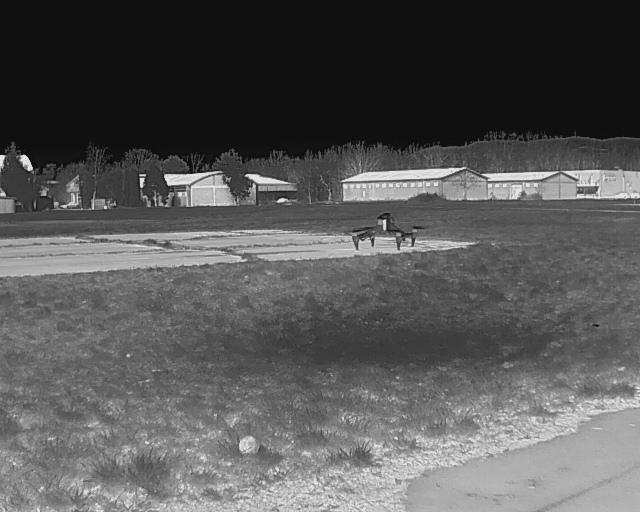drone: (333, 208, 435, 259)
